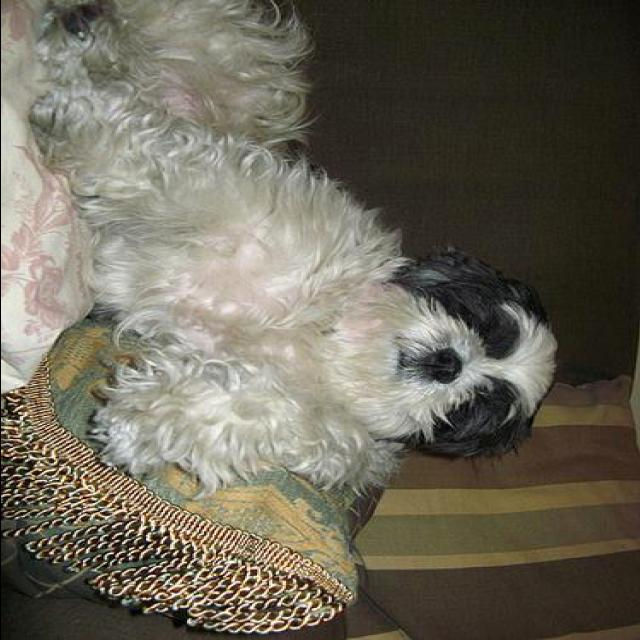shih_tzu: (31, 0, 564, 500)
